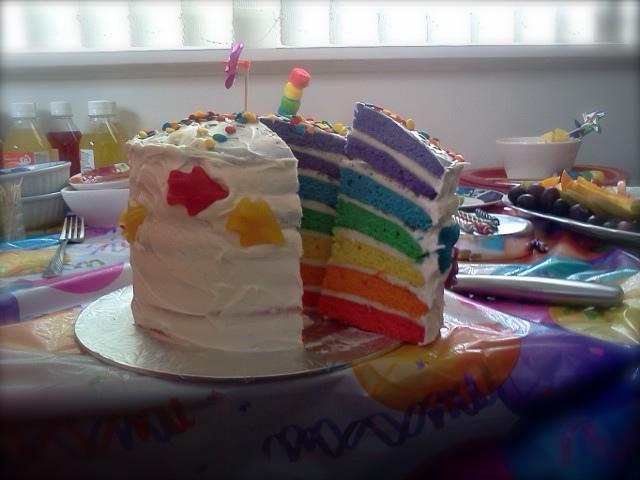grape: (570, 204, 590, 222), (508, 186, 528, 204), (517, 194, 539, 210), (552, 198, 570, 217), (526, 185, 545, 198), (544, 188, 560, 202), (618, 221, 634, 232), (587, 215, 602, 226), (602, 221, 618, 229), (632, 221, 640, 232)
